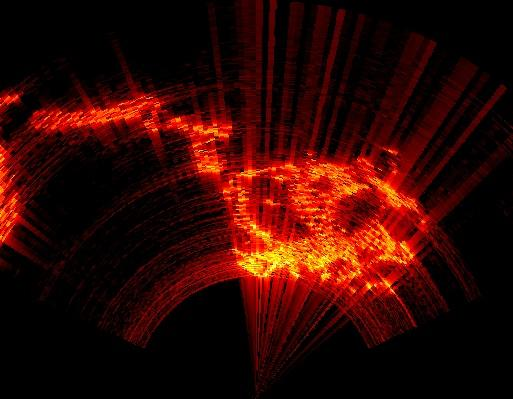shipwreck: (31, 97, 417, 276)
